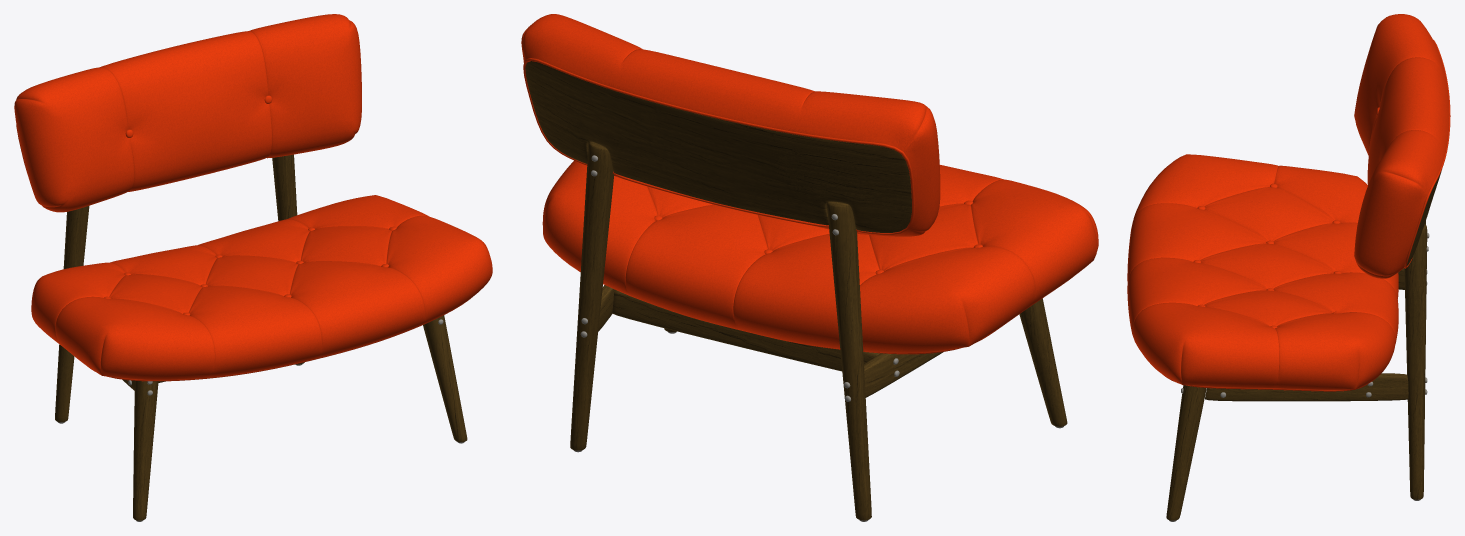
The model's file is chair.glb.
3 renders of one model, left to right at view 1: azimuth 30°, elevation 25°; view 2: azimuth 150°, elevation 25°; view 3: azimuth 270°, elevation 25°, orthographic. The views are drawn at different scales.
Parts seen in each view (by area): view 1: chair_fabric_mango, chair_wood_brown; view 2: chair_fabric_mango, chair_wood_brown; view 3: chair_fabric_mango, chair_wood_brown.
Part boxes in pixels (box(x1,y1,x2,y2)): chair_fabric_mango: box(14, 14, 492, 381); chair_wood_brown: box(55, 154, 467, 520); chair_fabric_mango: box(521, 14, 1098, 354); chair_wood_brown: box(525, 61, 1067, 520); chair_fabric_mango: box(1127, 14, 1450, 391); chair_wood_brown: box(1166, 170, 1441, 520).
Bounding box in the file's own units: 0.8266 × 0.6862 × 0.5703.
5 materials, 4 textured.
